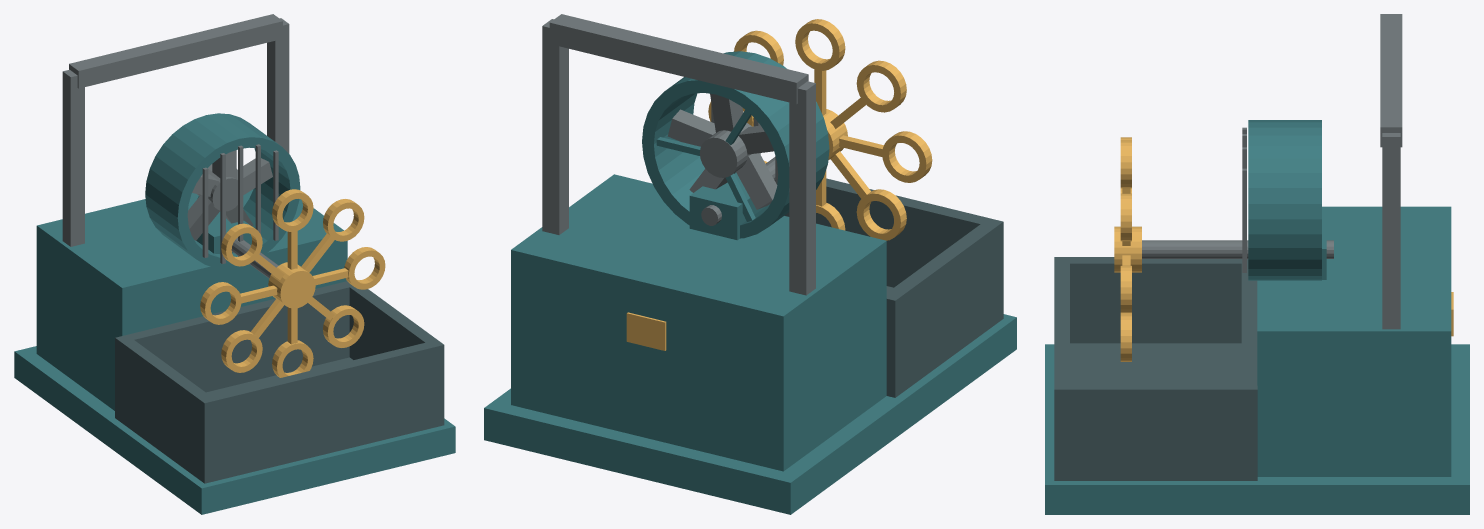
3 views of the same model, side by side, from view 1: azimuth 30°, elevation 25°; view 2: azimuth 150°, elevation 25°; view 3: azimuth 270°, elevation 25° (orthographic). The views are drawn at different scales.
Parts seen in each view (by area): view 1: WholeOpenFrontTrough, WholeRearEquipmentCase, WholeGroundFootCaseBase, WholeRearFanDuct, WholeCarryHandleTop, WholeCarryHandleSide_00, WholeCarryHandleSide_01, WholeWandWheelHub, WholeOpenWandLoop_03, WholeOpenWandLoop_01, WholeOpenWandLoop_02, WholeOpenWandLoop_04 (+12 smaller); view 2: WholeRearEquipmentCase, WholeGroundFootCaseBase, WholeOpenFrontTrough, WholeRearFanDuct, WholeCarryHandleTop, WholeCarryHandleSide_00, WholeCarryHandleSide_01, WholeRearWheelBearingRoot, WholeRearFanMotor, WholeOpenWandLoop_03, WholeOpenWandLoop_02, WholeOpenWandLoop_04 (+9 smaller); view 3: WholeRearEquipmentCase, WholeOpenFrontTrough, WholeGroundFootCaseBase, WholeRearFanDuct, WholeCarryHandleSide_01, WholeCarryHandleTop, WholeWandWheelAxle, WholeWandWheelHub, WholeOpenWandLoop_02, WholeOpenWandLoop_00, WholeOpenWandLoop_01, WholeOpenWandLoop_07 (+1 smaller).
Boxes of the visible parts, <box> form: WholeOpenFrontTrough: <box>115,281,444,483</box>; WholeRearEquipmentCase: <box>36,189,347,410</box>; WholeGroundFootCaseBase: <box>14,346,455,514</box>; WholeRearFanDuct: <box>145,113,300,268</box>; WholeCarryHandleTop: <box>69,14,282,88</box>; WholeCarryHandleSide_00: <box>62,69,84,246</box>; WholeCarryHandleSide_01: <box>267,18,289,153</box>; WholeWandWheelHub: <box>268,262,315,308</box>; WholeOpenWandLoop_03: <box>221,223,262,266</box>; WholeOpenWandLoop_01: <box>323,199,364,241</box>; WholeOpenWandLoop_02: <box>272,189,313,231</box>; WholeOpenWandLoop_04: <box>200,282,241,324</box>; WholeRearEquipmentCase: <box>511,174,886,471</box>; WholeGroundFootCaseBase: <box>484,314,1016,514</box>; WholeOpenFrontTrough: <box>784,178,1003,397</box>; WholeRearFanDuct: <box>642,51,829,238</box>; WholeCarryHandleTop: <box>549,14,808,104</box>; WholeCarryHandleSide_00: <box>789,81,815,295</box>; WholeCarryHandleSide_01: <box>542,19,568,234</box>; WholeRearWheelBearingRoot: <box>689,172,765,240</box>; WholeRearFanMotor: <box>699,123,751,177</box>; WholeOpenWandLoop_03: <box>856,60,906,112</box>; WholeOpenWandLoop_02: <box>795,19,845,70</box>; WholeOpenWandLoop_04: <box>882,131,932,182</box>; WholeRearEquipmentCase: <box>1257,206,1451,476</box>; WholeOpenFrontTrough: <box>1054,257,1257,480</box>; WholeGroundFootCaseBase: <box>1045,344,1469,514</box>; WholeRearFanDuct: <box>1248,120,1321,280</box>; WholeCarryHandleSide_01: <box>1382,133,1400,329</box>; WholeCarryHandleTop: <box>1380,14,1402,147</box>; WholeWandWheelAxle: <box>1142,240,1333,258</box>; WholeWandWheelHub: <box>1114,226,1141,272</box>; WholeOpenWandLoop_02: <box>1120,140,1131,188</box>; WholeOpenWandLoop_00: <box>1120,265,1131,313</box>; WholeOpenWandLoop_01: <box>1120,193,1131,241</box>; WholeOpenWandLoop_07: <box>1120,314,1131,361</box>.
Bounding box in the file's own units: 0.36 × 0.447 × 0.46.
